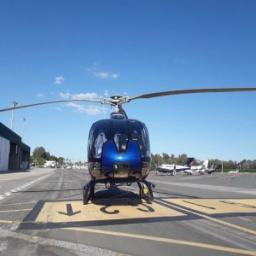helicopter: (3, 82, 256, 207)
